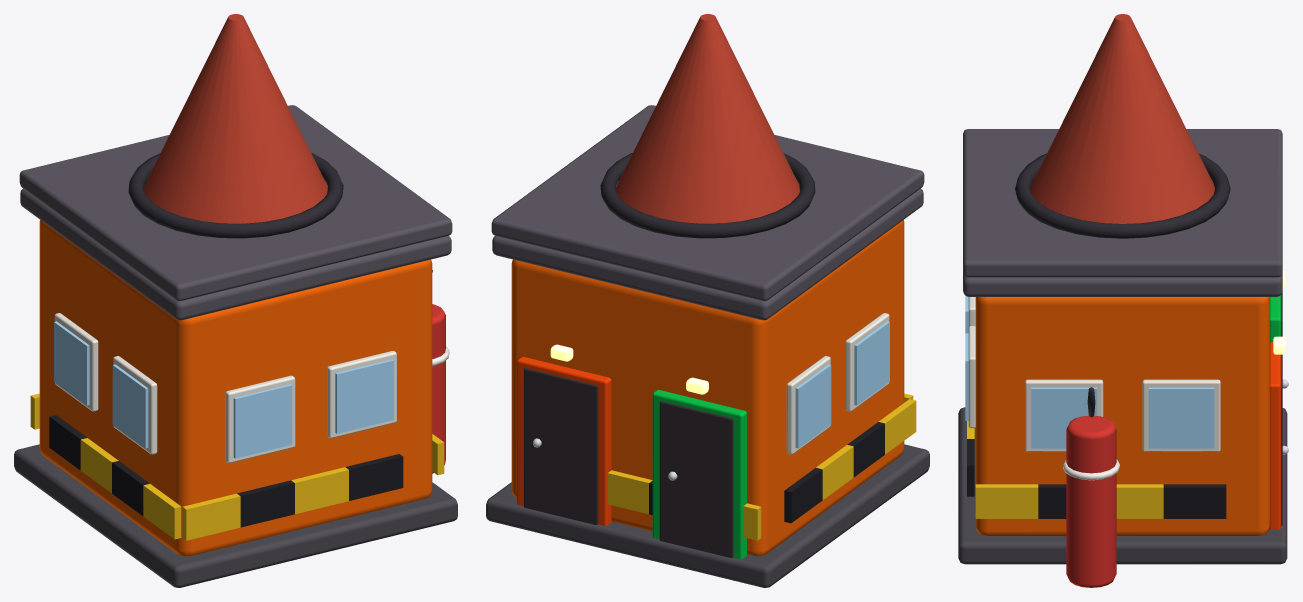
Rendered from building_blasting_academy_t1.glb.
3 renders of one model, left to right at view 1: azimuth 30°, elevation 25°; view 2: azimuth 150°, elevation 25°; view 3: azimuth 270°, elevation 25°, orthographic.
Visible parts, largest first — view 1: Walls, Roof.Parapet, BoomCone, Plinth, Roof.Slab, BoomRing, WinB0.Pane, WinB0.Pane.001, WinL0.Pane, WinL0.Pane.001, Hazard.Seg.004, Hazard.Seg.005 (+11 smaller); view 2: Walls, Roof.Parapet, BoomCone, Plinth, Entry.Leaf, Exit.Leaf, Roof.Slab, BoomRing, Entry.Frame, Exit.Frame, WinL0.Pane.001, WinL0.Pane (+8 smaller); view 3: Walls, Roof.Parapet, BoomCone, Plinth, Dynamite, Roof.Slab, BoomRing, WinR0.Pane.001, WinR0.Pane, Hazard.Seg.012, Hazard.Seg.015, Exit.Frame (+8 smaller).
Part boxes in pixels (box(x1,y1,x2,y2)): Walls: box(39, 220, 432, 556); Roof.Parapet: box(19, 105, 452, 300); BoomCone: box(144, 14, 327, 223); Plinth: box(14, 444, 457, 587); Roof.Slab: box(20, 188, 451, 320); BoomRing: box(128, 153, 343, 238); WinB0.Pane: box(233, 384, 292, 458); WinB0.Pane.001: box(335, 359, 393, 433); WinL0.Pane: box(112, 364, 148, 448); WinL0.Pane.001: box(54, 321, 89, 405); Hazard.Seg.004: box(182, 493, 240, 540); Hazard.Seg.005: box(237, 480, 294, 527); Walls: box(511, 220, 904, 556); Roof.Parapet: box(491, 105, 924, 300); BoomCone: box(616, 14, 799, 223); Plinth: box(486, 444, 929, 587); Entry.Leaf: box(659, 401, 733, 558); Exit.Leaf: box(524, 368, 598, 524); Roof.Slab: box(492, 188, 923, 320); BoomRing: box(600, 153, 815, 238); Entry.Frame: box(652, 390, 746, 558); Exit.Frame: box(517, 356, 611, 525); WinL0.Pane.001: box(795, 364, 831, 448); WinL0.Pane: box(854, 321, 889, 405); Walls: box(975, 297, 1269, 535); Roof.Parapet: box(963, 129, 1282, 277); BoomCone: box(1030, 14, 1214, 223); Plinth: box(958, 407, 1287, 564); Dynamite: box(1066, 415, 1116, 587); Roof.Slab: box(963, 273, 1282, 296); BoomRing: box(1015, 153, 1230, 238); WinR0.Pane.001: box(1148, 387, 1214, 448); WinR0.Pane: box(1031, 387, 1096, 448); Hazard.Seg.012: box(975, 484, 1038, 518); Hazard.Seg.015: box(1163, 484, 1226, 518); Exit.Frame: box(1269, 341, 1280, 529).
Bounding box in the file's own units: 2.48 × 3.38 × 2.11.
